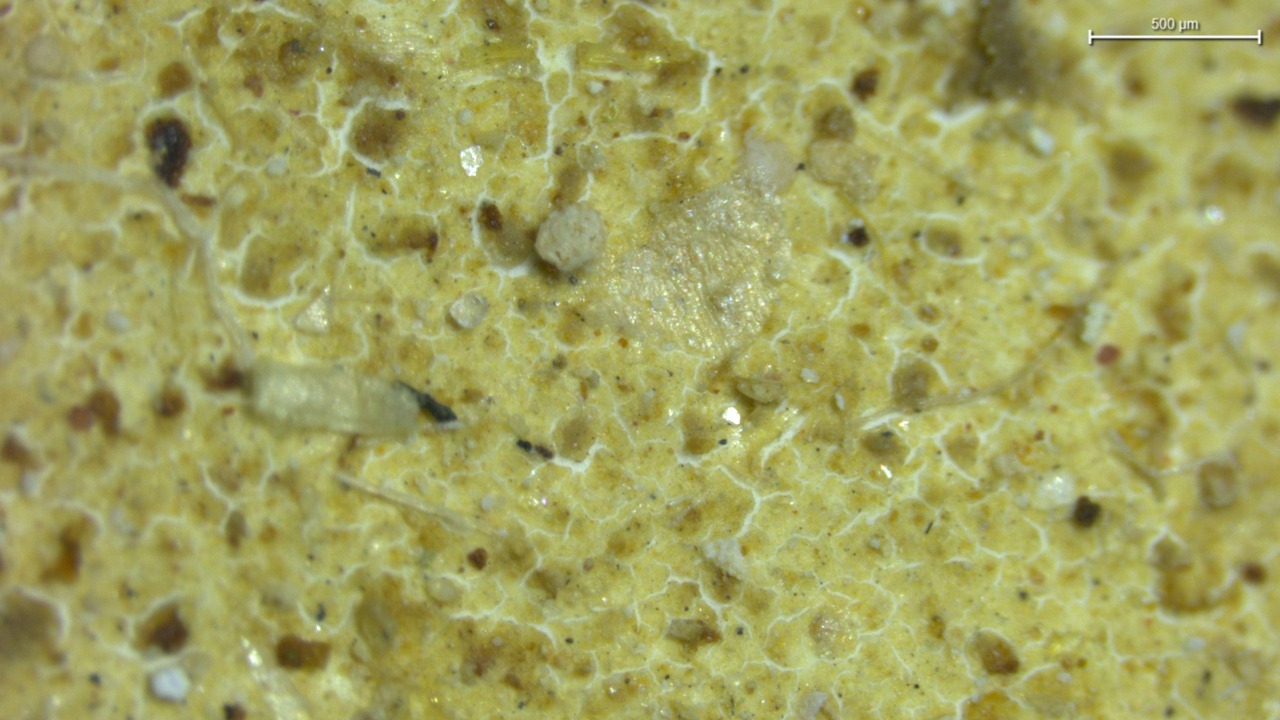microplastic_fragment: (535, 204, 605, 272)
